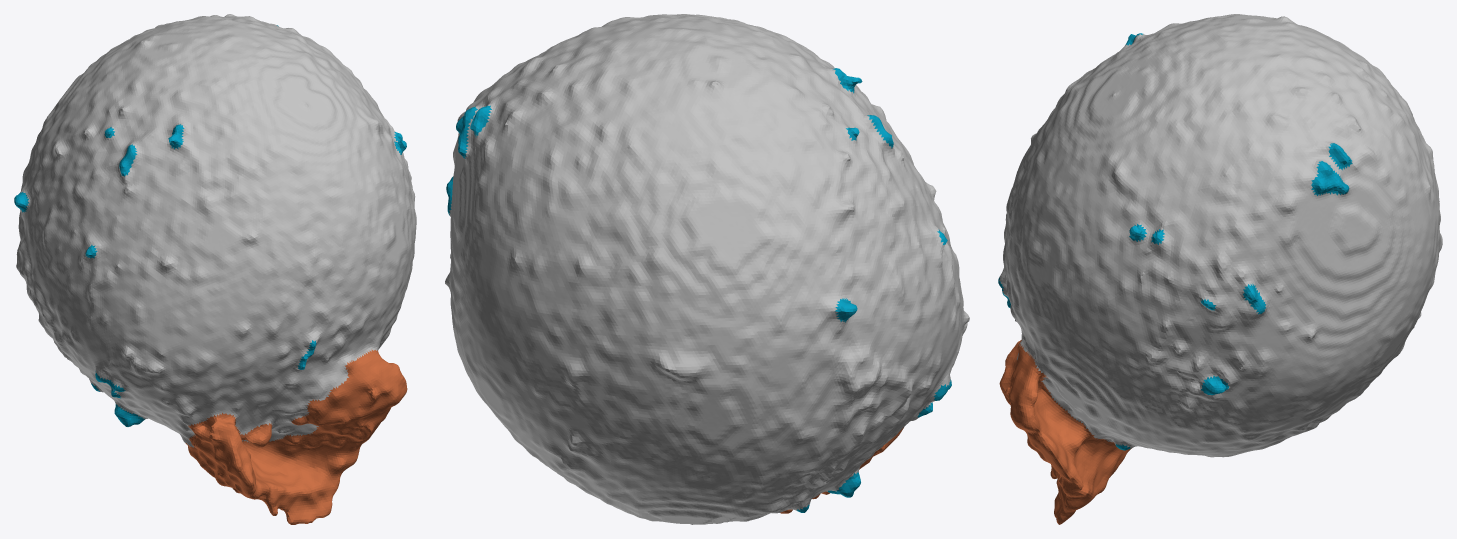
The picture shows the model from 3 angles, left to right: view 1: azimuth 30°, elevation 25°; view 2: azimuth 150°, elevation 25°; view 3: azimuth 270°, elevation 25°; orthographic projection. The views are drawn at different scales.
Bounding box in the file's own units: 125 × 147 × 124.
